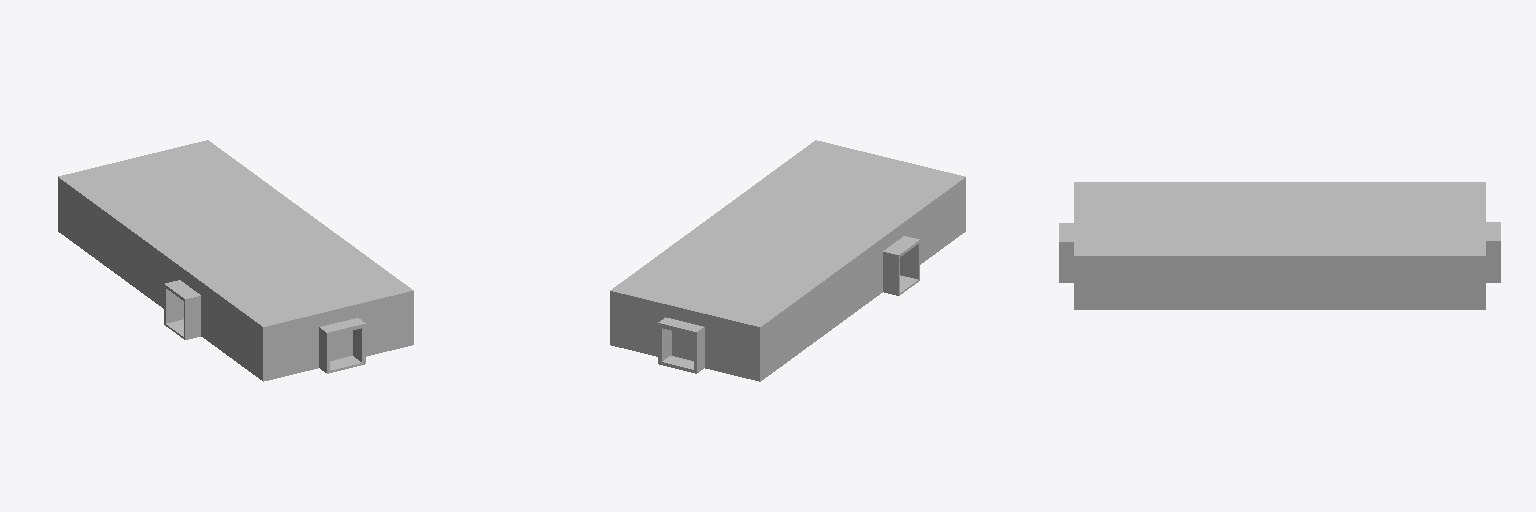
Rendered from RoomFour.obj.
3 renders of one model, left to right at view 1: azimuth 30°, elevation 25°; view 2: azimuth 150°, elevation 25°; view 3: azimuth 270°, elevation 25°, orthographic.
Visible parts, largest first — view 1: Cube; view 2: Cube; view 3: Cube.
Boxes of the visible parts, x1=… form: Cube: x1=58, y1=140, x2=413, y2=381; Cube: x1=610, y1=140, x2=965, y2=381; Cube: x1=1059, y1=182, x2=1500, y2=309.
Bounding box in the file's own units: 8.89 × 2.08 × 15.28.